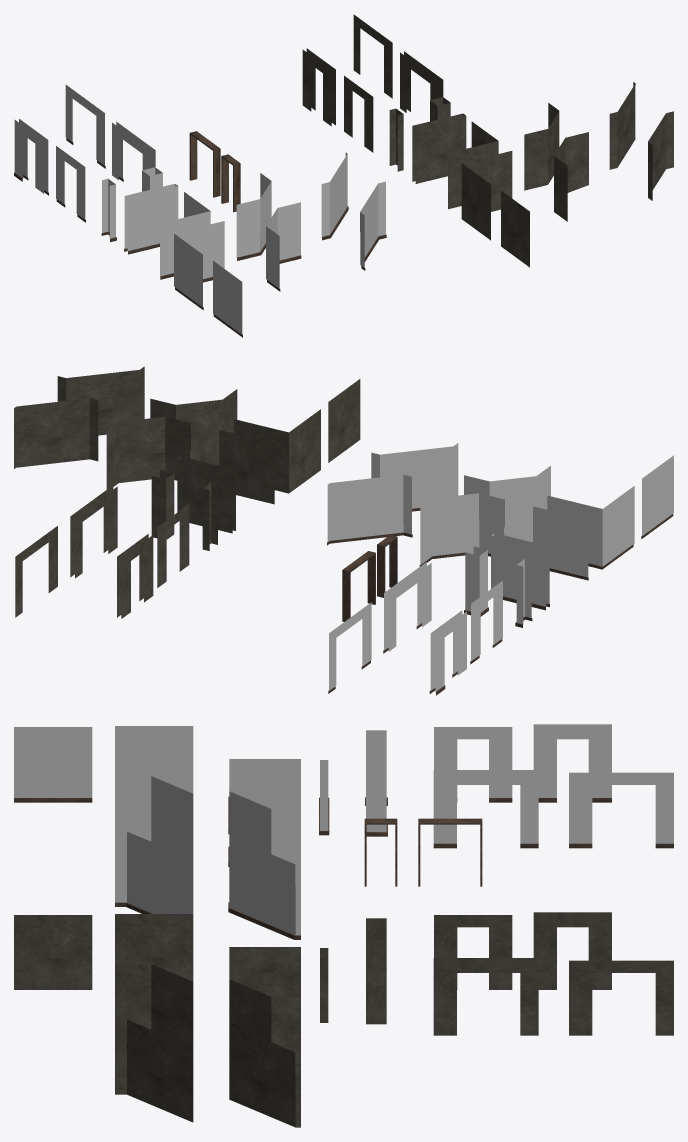
File: BACKROOMS.dae
The picture shows the model from 3 angles, top to bottom: view 1: azimuth 30°, elevation 25°; view 2: azimuth 150°, elevation 25°; view 3: azimuth 270°, elevation 25°; orthographic projection. The views are drawn at different scales.
Visible parts, largest first — view 1: C2, B2, B8, C8, B4, C4, B5, C5, B14, C12, B1, C3 (+16 smaller); view 2: C7, B7, C5, B5, B3, C3, C2, C6, B6, B2, B8, C8 (+18 smaller); view 3: B1, C6, C1, B7, B6, C7, C4, B4, B2, C2, C14, B16 (+16 smaller).
Boxes of the visible parts, box(x1,y1,x2,y2) form: C2: box(461, 151, 512, 240); B2: box(174, 221, 224, 310); B8: box(124, 184, 178, 254); C8: box(412, 113, 466, 183); B4: box(266, 202, 301, 291); C4: box(554, 132, 588, 221); B5: box(236, 173, 271, 260); C5: box(524, 103, 559, 190); B14: box(14, 119, 48, 195); C12: box(302, 48, 335, 126); B1: box(213, 261, 242, 337); C3: box(448, 121, 498, 209); C7: box(14, 398, 98, 468); B7: box(327, 474, 412, 545); C5: box(106, 416, 190, 489); B5: box(419, 493, 504, 566); B3: box(504, 506, 588, 580); C3: box(190, 430, 274, 504); C2: box(233, 409, 320, 493); C6: box(57, 366, 144, 435); B6: box(371, 443, 458, 511); B2: box(547, 486, 634, 569); B8: box(491, 533, 549, 610); C8: box(177, 456, 235, 533); B1: box(14, 727, 92, 802); C6: box(115, 1019, 193, 1122); C1: box(14, 915, 92, 989); B7: box(228, 837, 300, 939); B6: box(115, 831, 193, 913); C7: box(229, 1025, 300, 1127); C4: box(115, 964, 193, 1047); B4: box(115, 776, 193, 859); B2: box(115, 726, 193, 793); C2: box(115, 914, 193, 981); C14: box(433, 958, 538, 1035); B16: box(433, 770, 538, 848).
Size of the model in its own units: 19.88 by 16.86 by 2.12.
